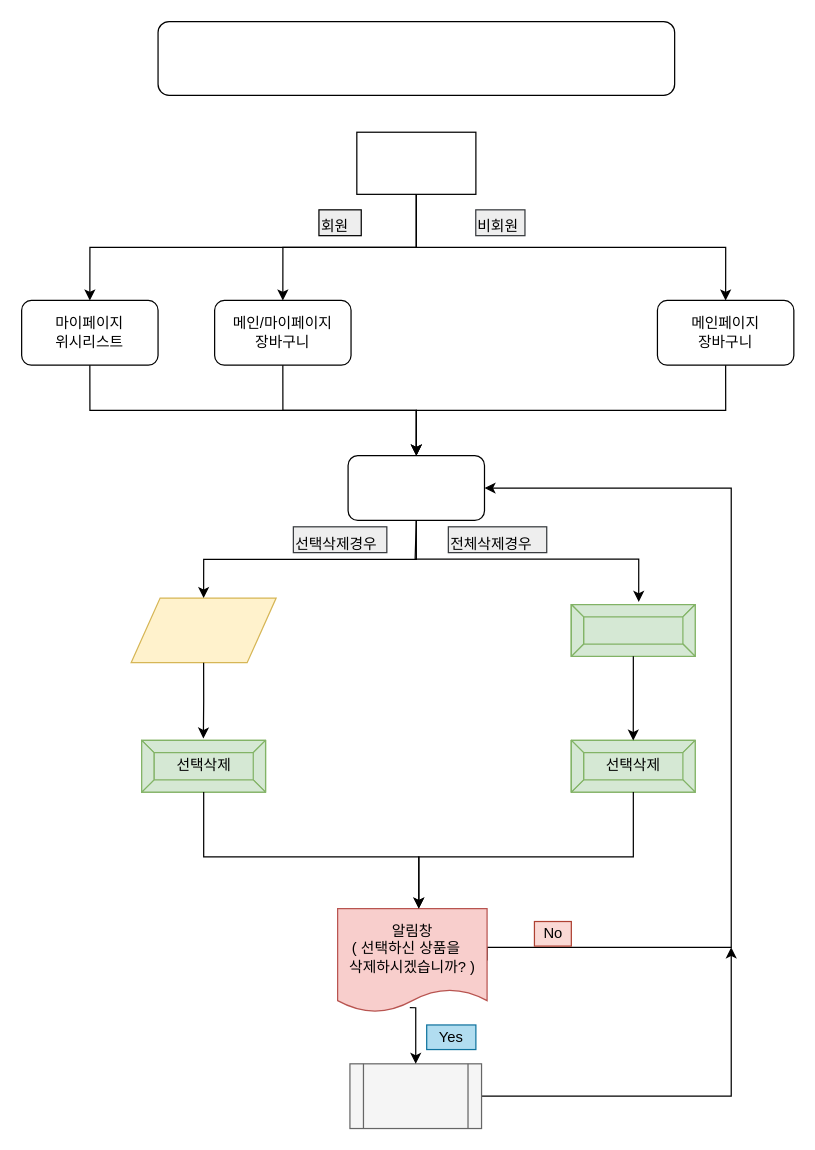
This 815x1150 diagram has some shape labels left out. Each missing label, with the box of its shape:
삭제처리: (349, 1063, 482, 1129)
삭제할 물품 체크: (130, 597, 276, 663)
장바구니 페이지: (347, 454, 484, 520)
장바구니,위시리스트 삭제 프로세스: (157, 20, 675, 95)
전체선택: (570, 603, 695, 656)
접근경로: (356, 131, 476, 194)
